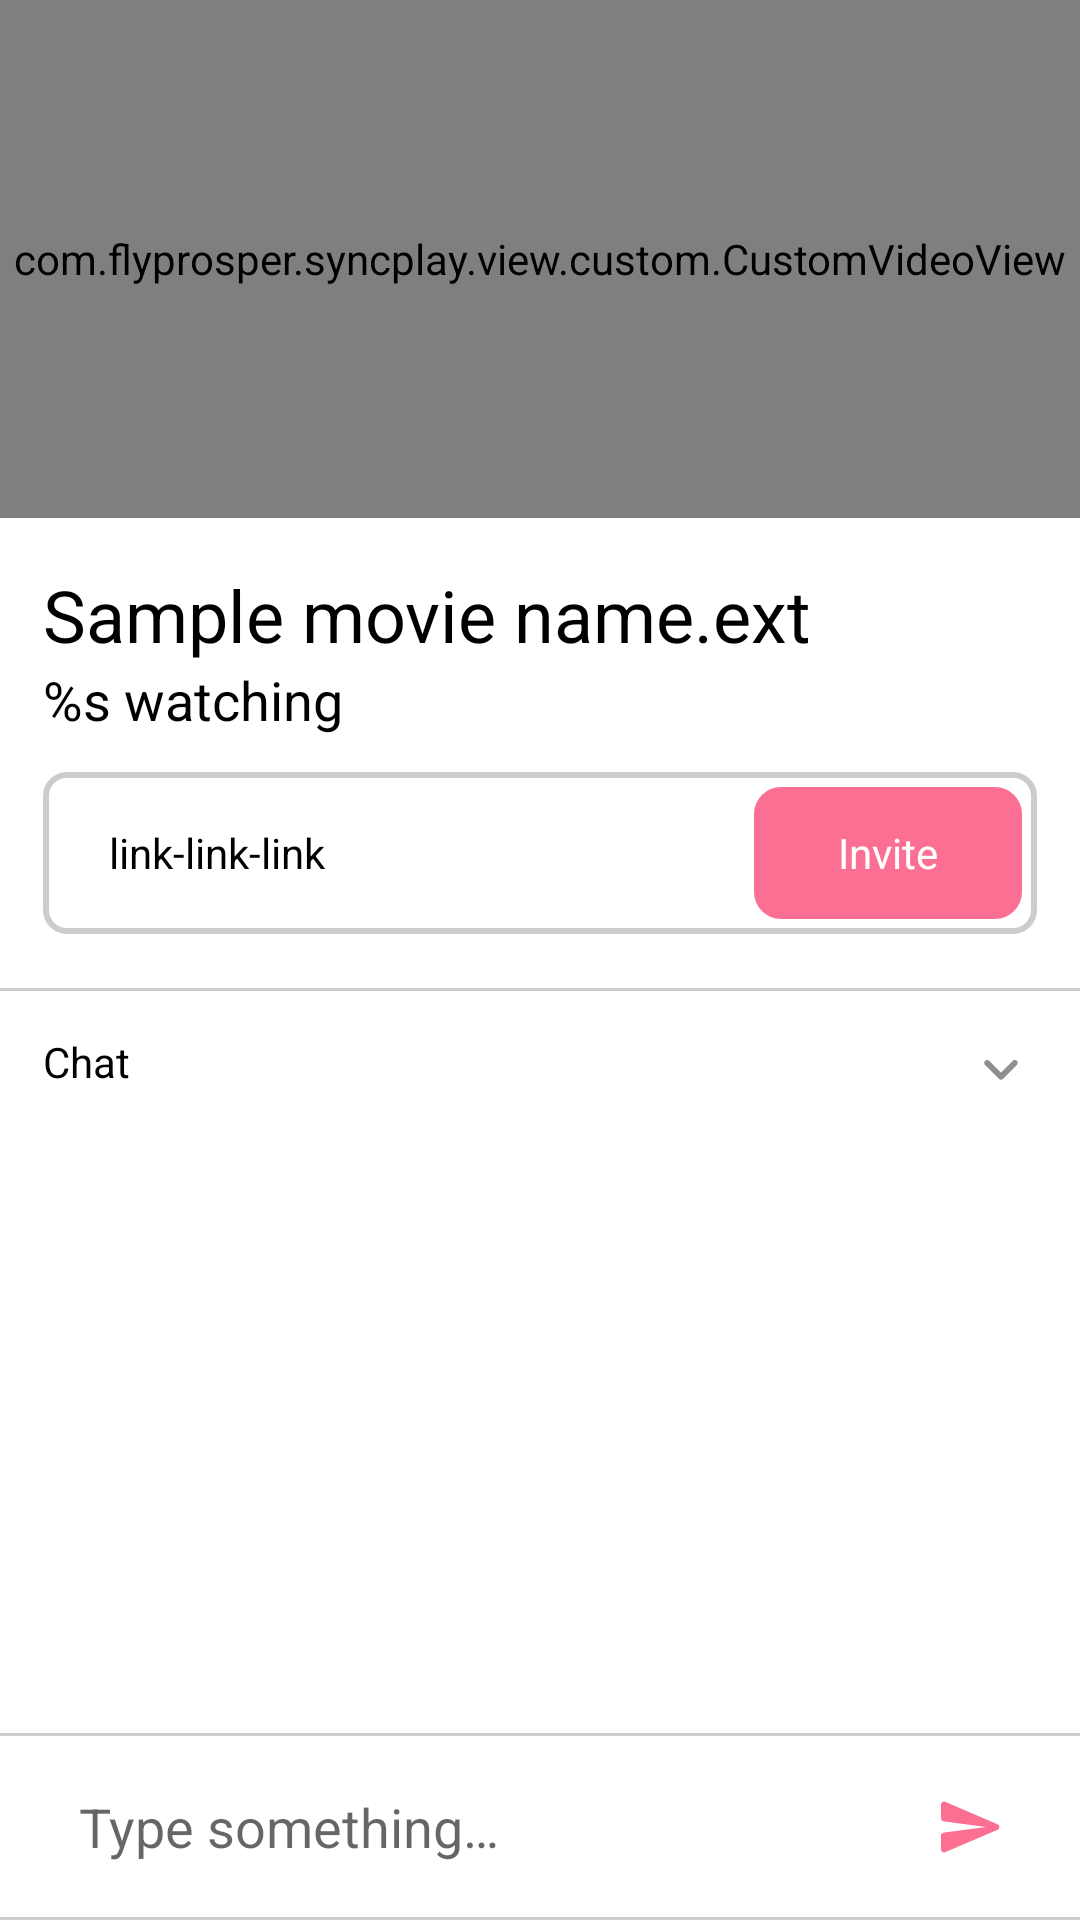

Point at icon controls on the screen. Image size 1080 x 1920, points as (x=x, y=y).
keyboard arrow down: (x=1001, y=1070)
send: (x=970, y=1827)
